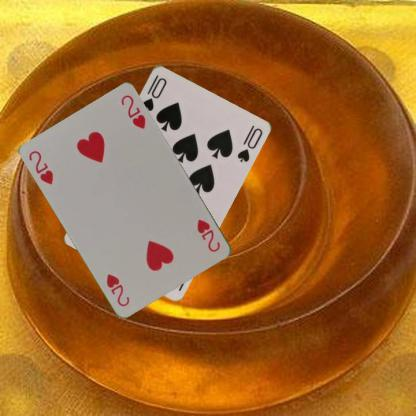10s: (139, 72, 168, 112)
2h: (26, 148, 55, 187), (195, 216, 222, 254)
